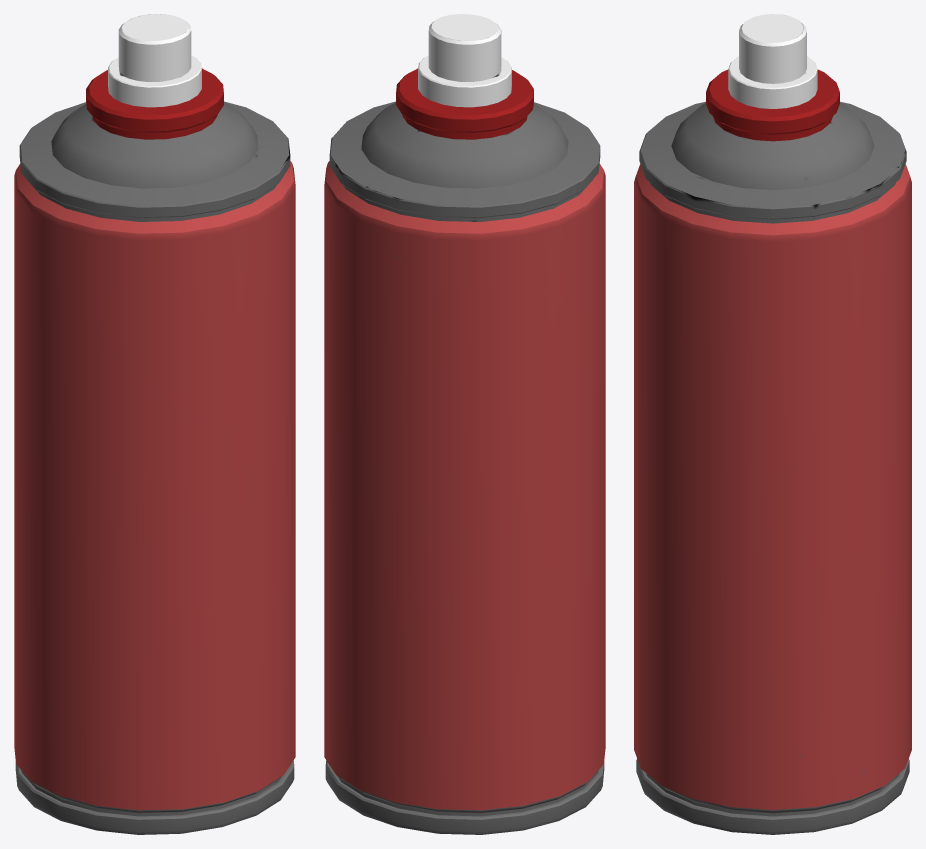
The model's file is Spray_can_02.fbx.
The picture shows the model from 3 angles, left to right: view 1: azimuth 30°, elevation 25°; view 2: azimuth 150°, elevation 25°; view 3: azimuth 270°, elevation 25°; orthographic projection.
Parts seen in each view (by area): view 1: pCylinder1; view 2: pCylinder1; view 3: pCylinder1.
Part boxes in pixels (left/top/right/bottom): pCylinder1: left=14, top=14, right=295, bottom=834; pCylinder1: left=324, top=14, right=605, bottom=834; pCylinder1: left=634, top=14, right=911, bottom=834.
Size of the model in its own units: 32.35 by 94.14 by 31.64.
Materials: 1 (1 with a texture image).
